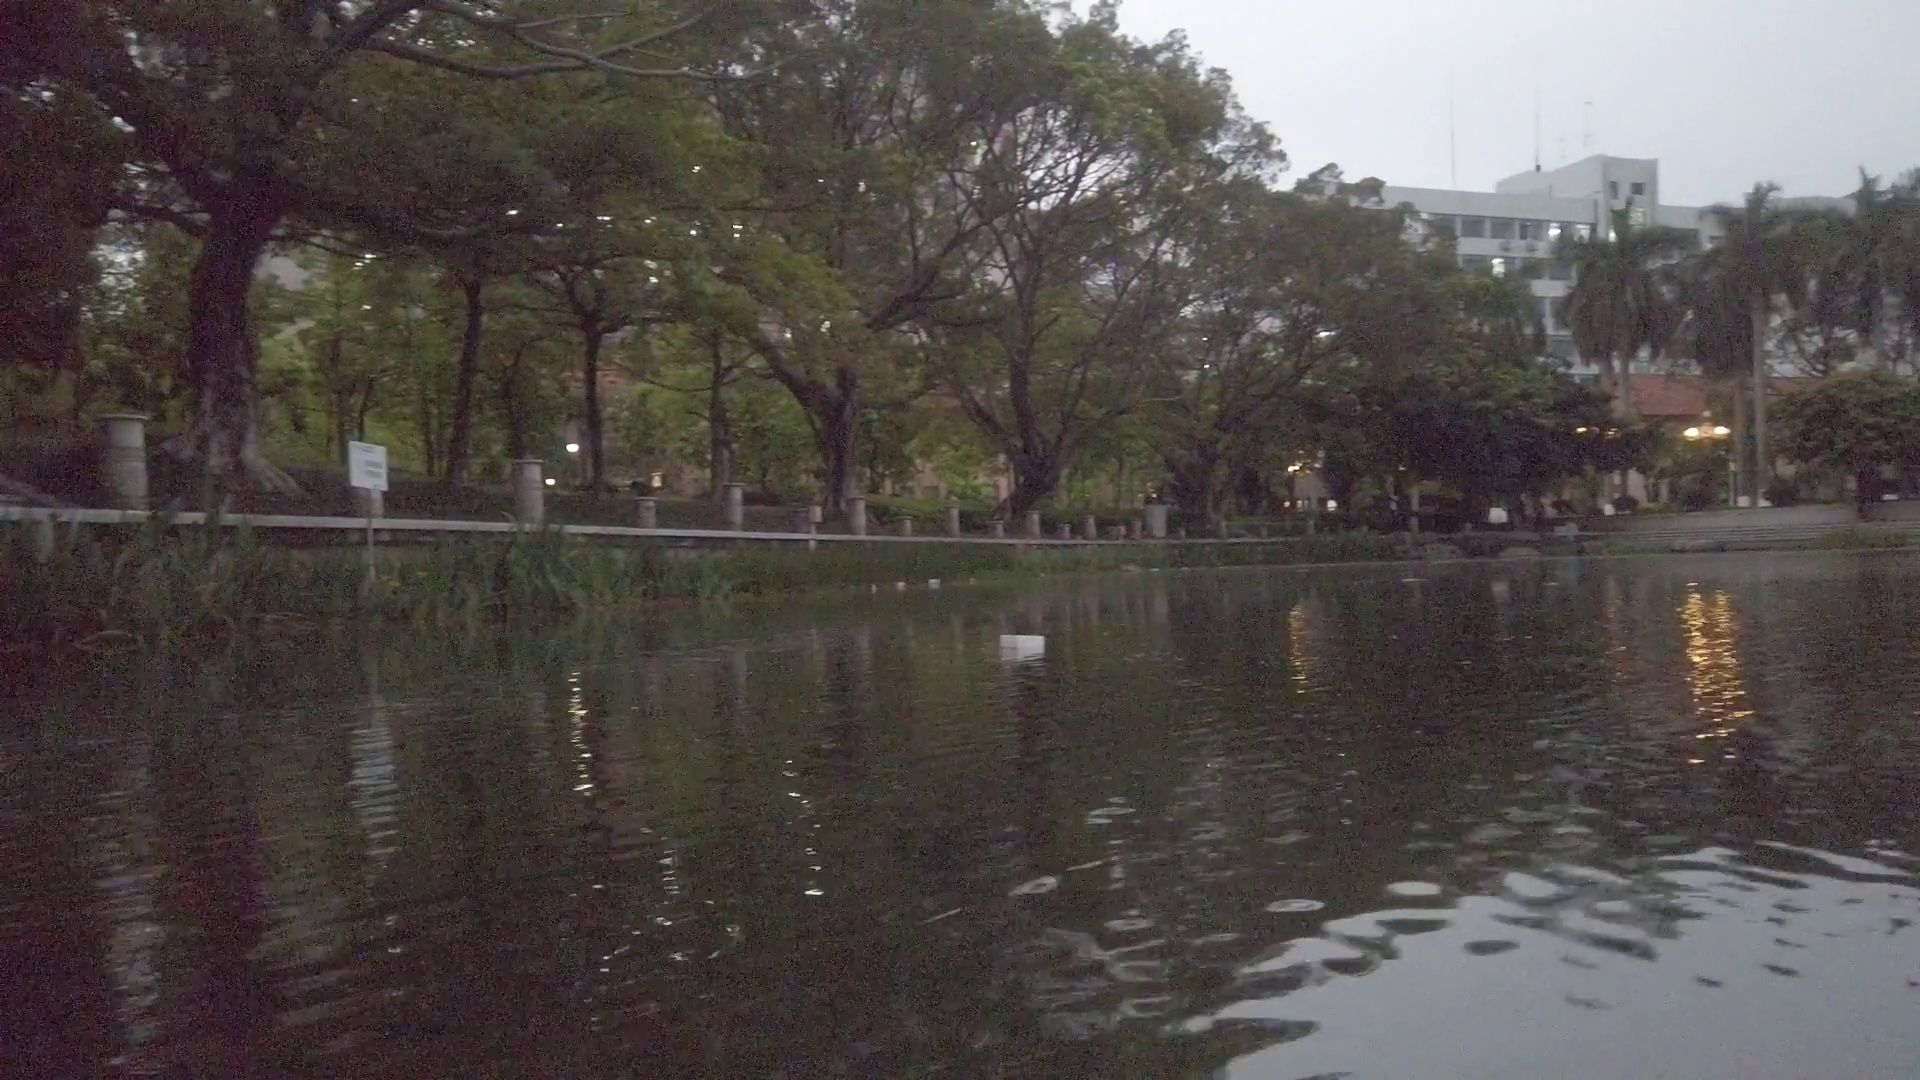carton: (1000, 632, 1047, 655)
